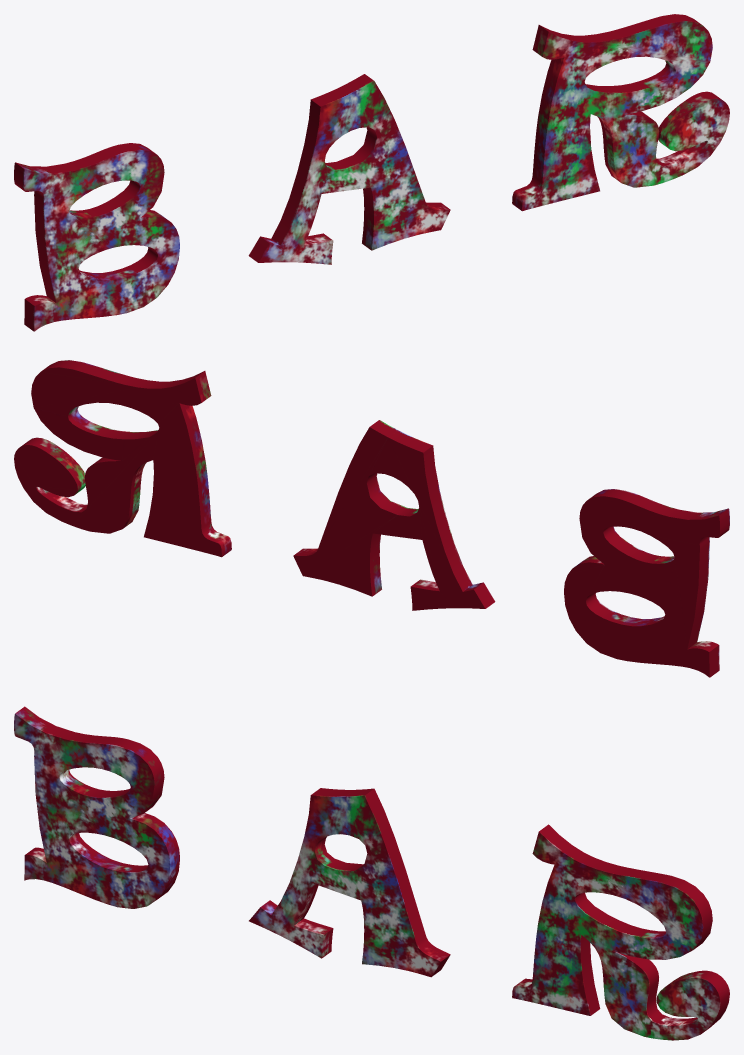
Rendered from Adsız.fbx.
3 renders of one model, top to bottom at view 1: azimuth 30°, elevation 25°; view 2: azimuth 150°, elevation 25°; view 3: azimuth 330°, elevation 25°, orthographic.
Parts seen in each view (by area): view 1: node_id44; view 2: node_id44; view 3: node_id44.
Boxes of the visible parts, x1,y1,x2,y2 form: node_id44: (14, 14, 729, 331); node_id44: (14, 360, 729, 677); node_id44: (14, 706, 729, 1040).
Bounding box in the file's own units: 1.26 × 0.3078 × 0.0306.
Materials: 1 (1 with a texture image).
